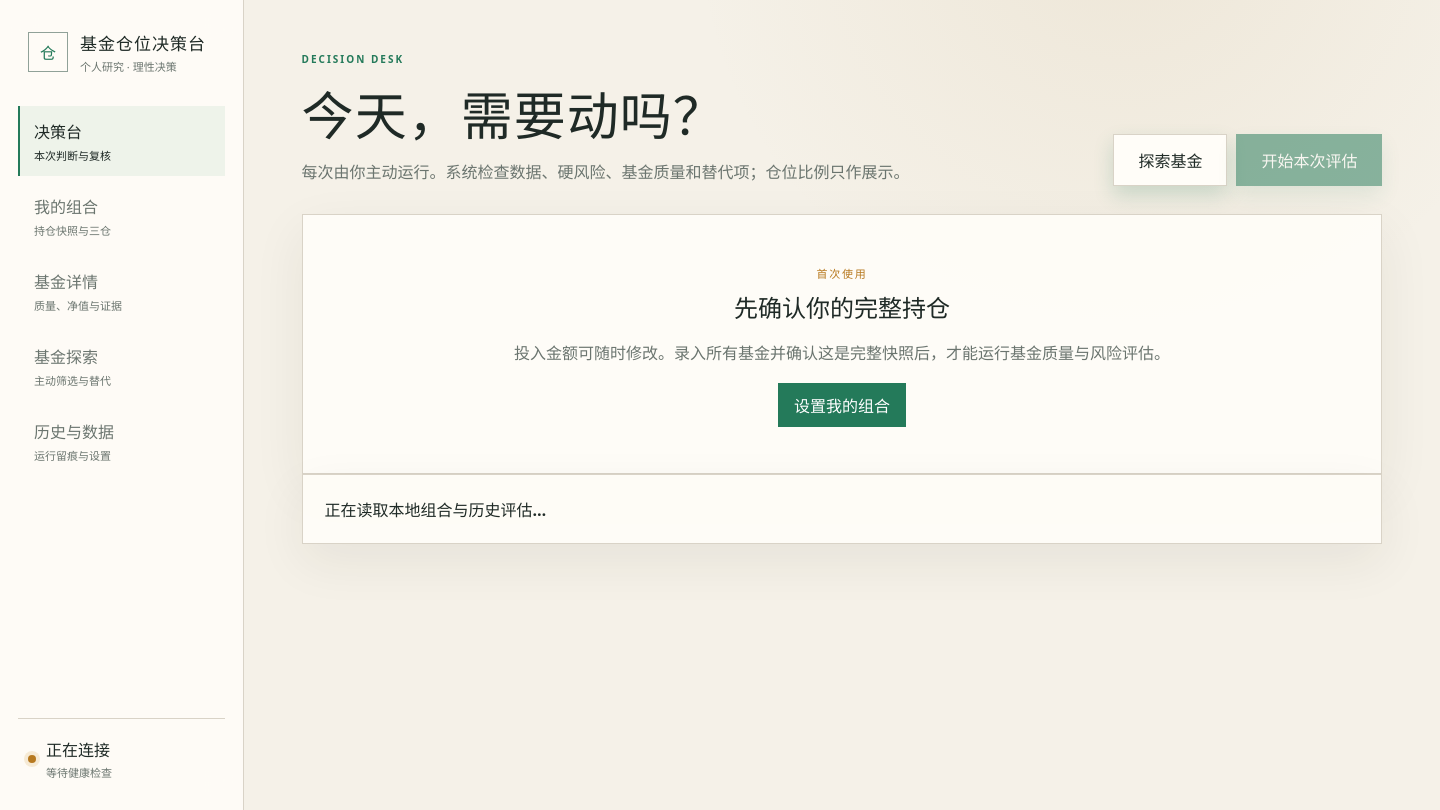
Test: 基金仓位决策台 › shows the persisted holding list after manual or OCR confirmation
Click the link "我的组合 持仓快照与三仓" at (72, 217), box top-left (34, 196), bottom-right (111, 238)
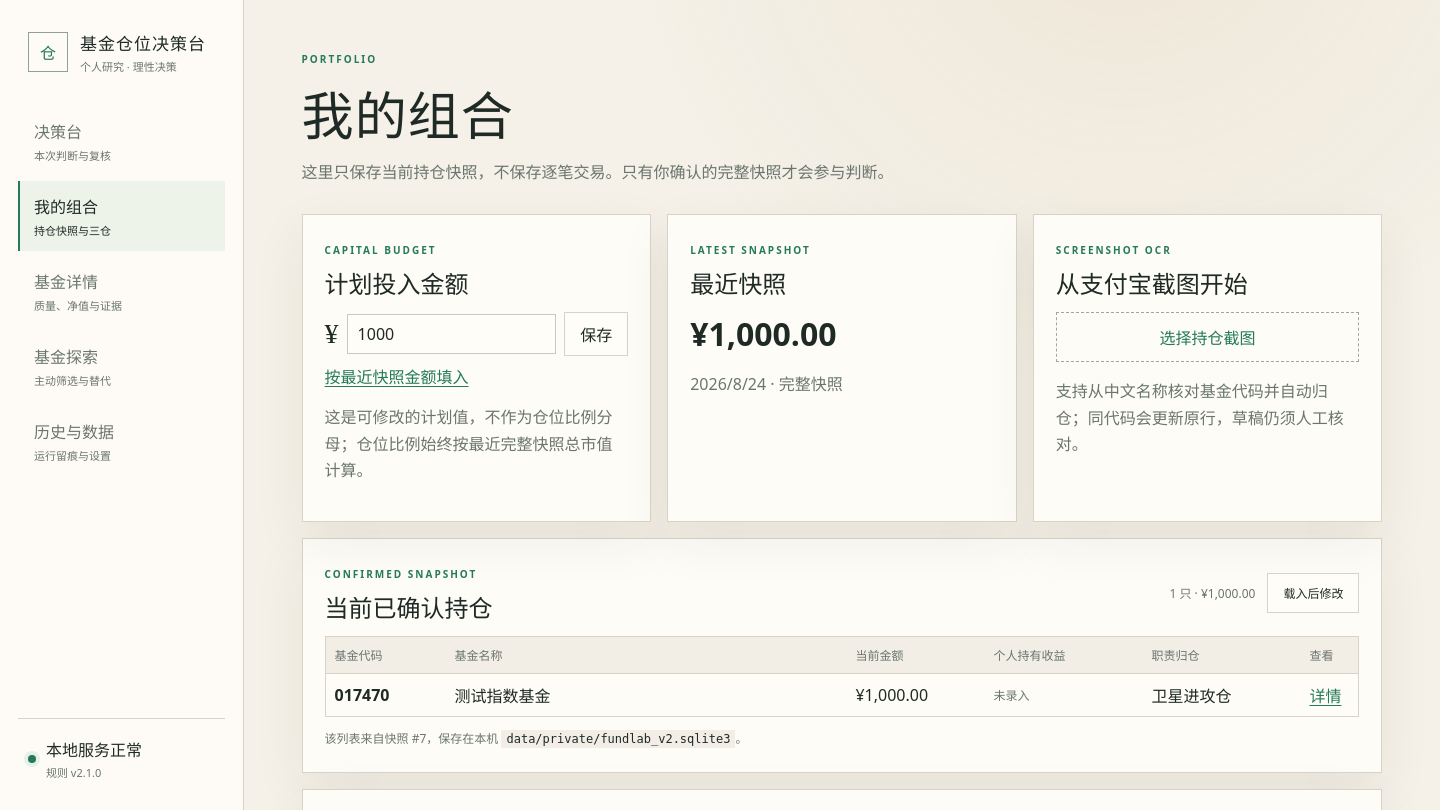
Check: the heading "当前已确认持仓" is shown, box top-left (325, 589), bottom-right (493, 624)
Check: the text "017470" is shown, box top-left (335, 684), bottom-right (390, 706)
Check: the text "测试指数基金" is shown, box top-left (455, 685), bottom-right (551, 707)
